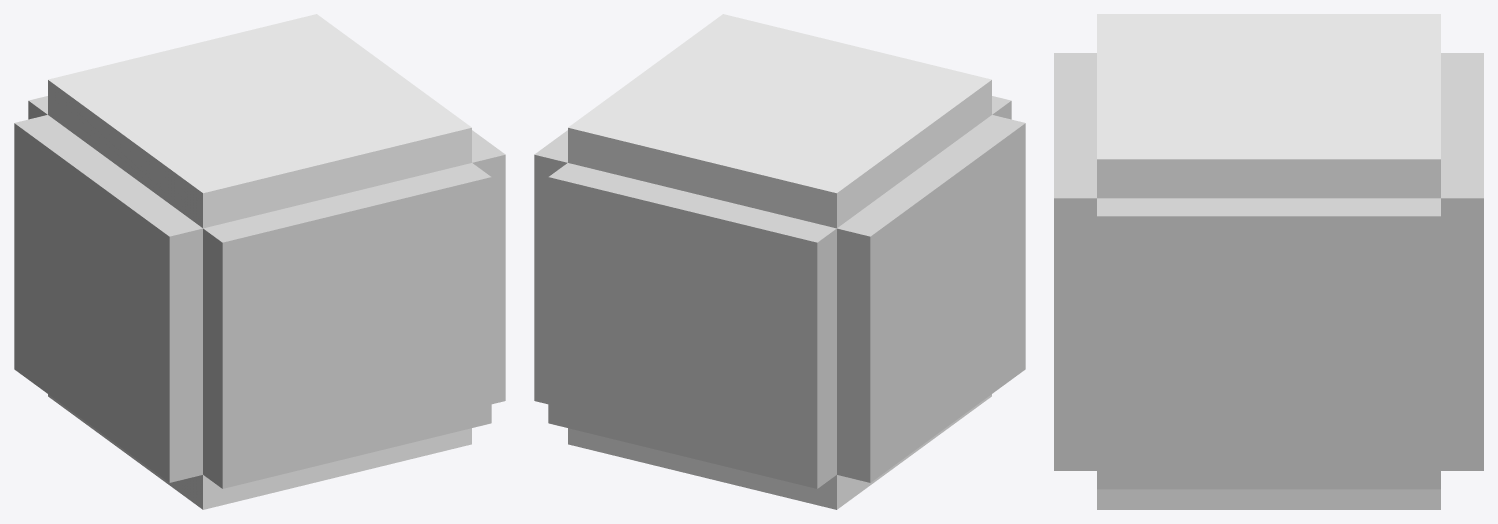
File: item_SALT_CUBE.glb
3 renders of one model, left to right at view 1: azimuth 30°, elevation 25°; view 2: azimuth 150°, elevation 25°; view 3: azimuth 270°, elevation 25°, orthographic. The views are drawn at different scales.
Visible parts, largest first — view 1: item_SALT_CUBE; view 2: item_SALT_CUBE; view 3: item_SALT_CUBE.
Boxes of the visible parts, x1,y1,x2,y2 form: item_SALT_CUBE: [14, 14, 505, 509]; item_SALT_CUBE: [534, 14, 1025, 509]; item_SALT_CUBE: [1054, 14, 1483, 509].
Bounding box in the file's own units: 0.2273 × 0.2045 × 0.2273.
Materials: 1 (1 with a texture image).
